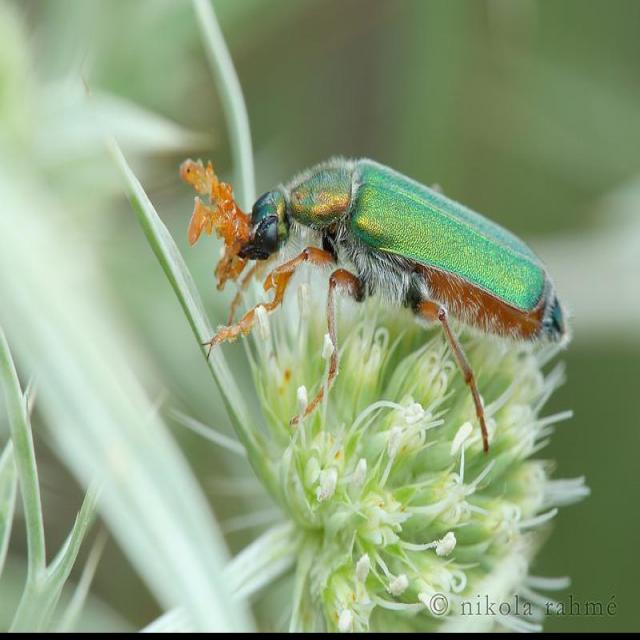BlisterBeetle-Adult-: (221, 147, 565, 400)
